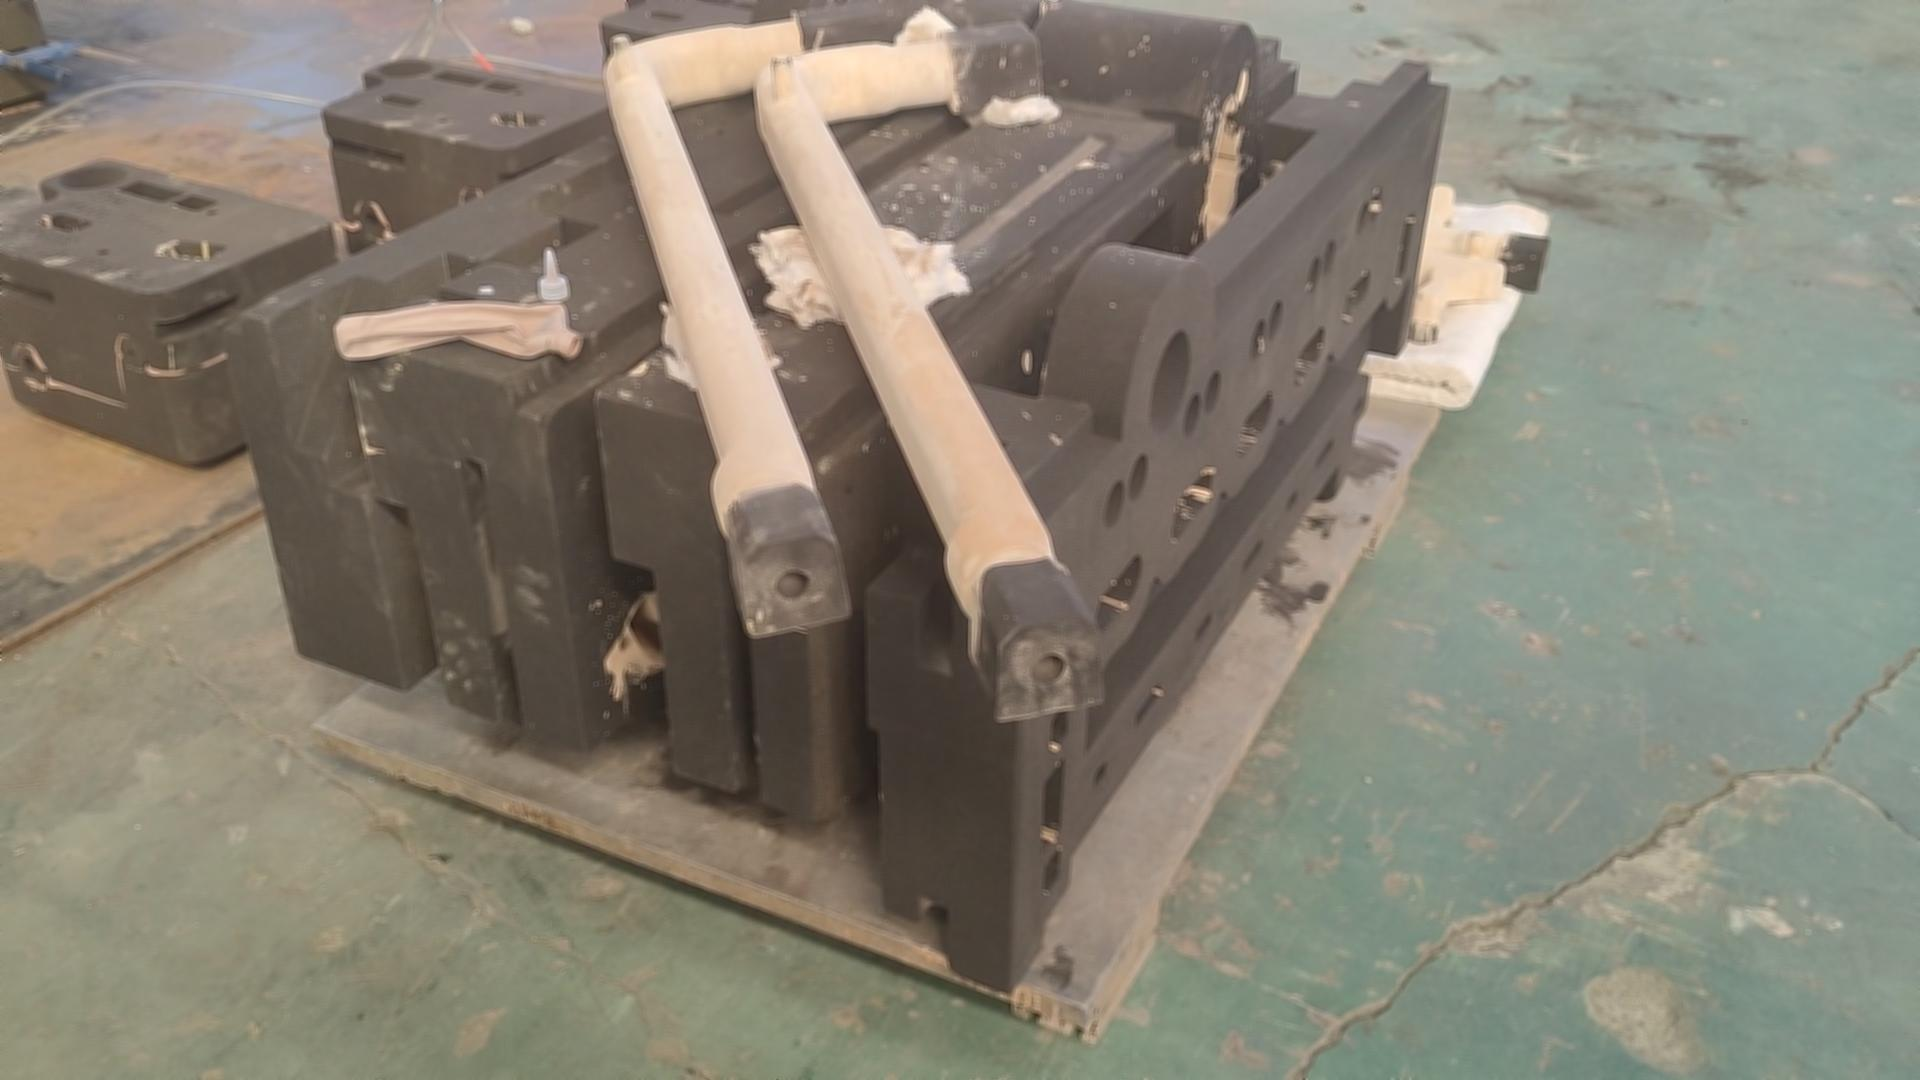pouring hole: (1149, 328, 1191, 433), (58, 165, 127, 189), (377, 59, 433, 76)
